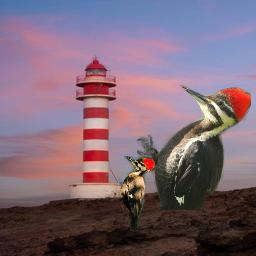Woodpecker: (137, 85, 251, 210), (117, 156, 155, 231)
